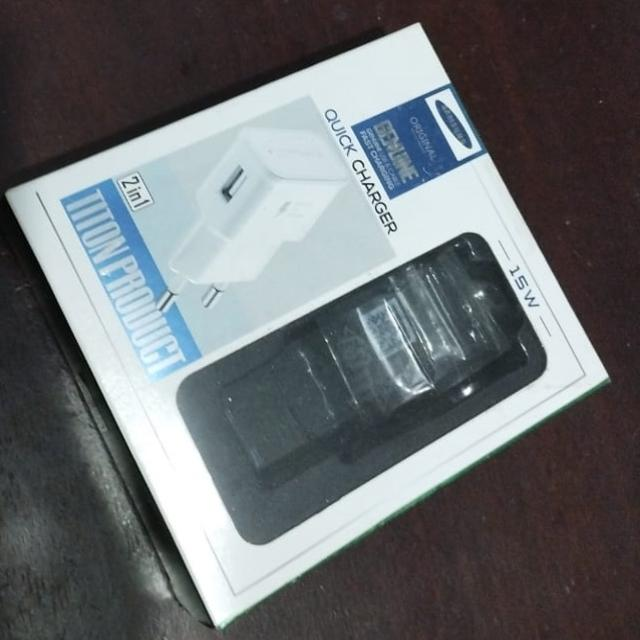Organik: (0, 20, 607, 630)
